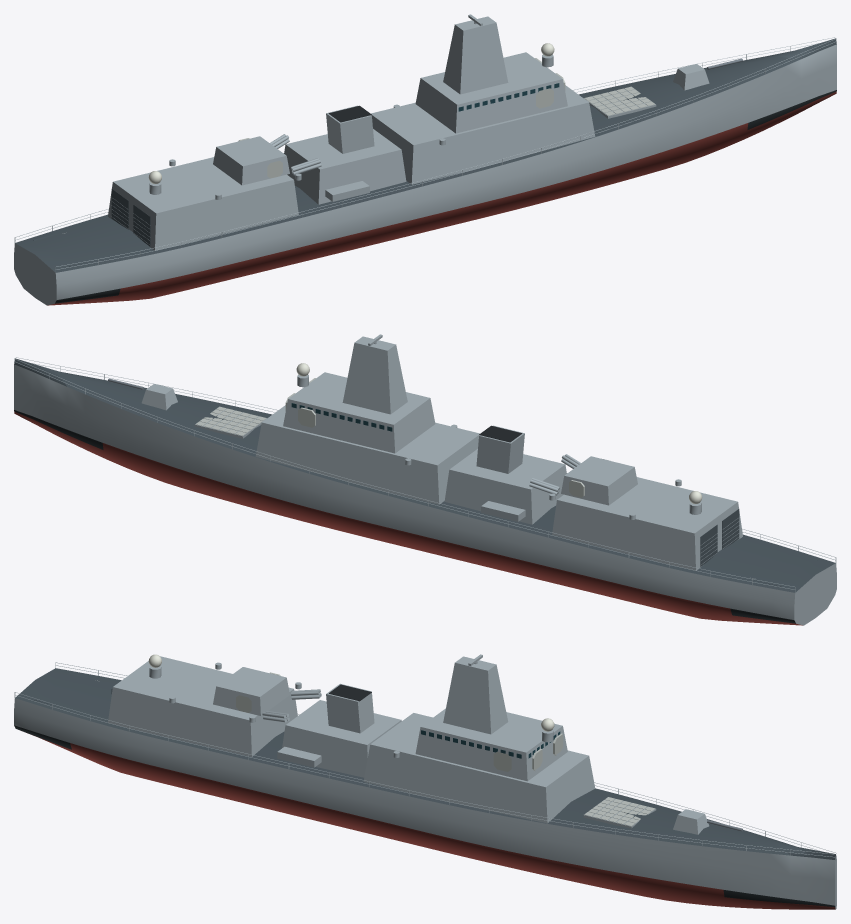
File: jmsdf_dd_akizuki.glb
The picture shows the model from 3 angles, top to bottom: view 1: azimuth 30°, elevation 25°; view 2: azimuth 150°, elevation 25°; view 3: azimuth 330°, elevation 25°; orthographic projection.
Visible parts, largest first — view 1: naval_paint, deck_non_skid, antifouling, array_face, boot_topping; view 2: naval_paint, deck_non_skid, antifouling, array_face, boot_topping; view 3: naval_paint, antifouling, deck_non_skid, array_face, boot_topping.
Boxes of the visible parts, x1,y1,x2,y2 form: naval_paint: (14, 14, 836, 305); deck_non_skid: (15, 38, 836, 272); antifouling: (48, 91, 836, 305); array_face: (238, 58, 655, 178); boot_topping: (55, 90, 836, 303); naval_paint: (14, 334, 836, 625); deck_non_skid: (14, 358, 835, 592); antifouling: (14, 411, 802, 625); array_face: (195, 378, 603, 497); boot_topping: (14, 410, 795, 623); naval_paint: (14, 654, 836, 909); antifouling: (27, 733, 835, 909); deck_non_skid: (15, 668, 835, 859); array_face: (236, 672, 655, 826); boot_topping: (14, 725, 835, 907).
Bounding box in the file's own units: 10 × 2.24 × 1.21.
